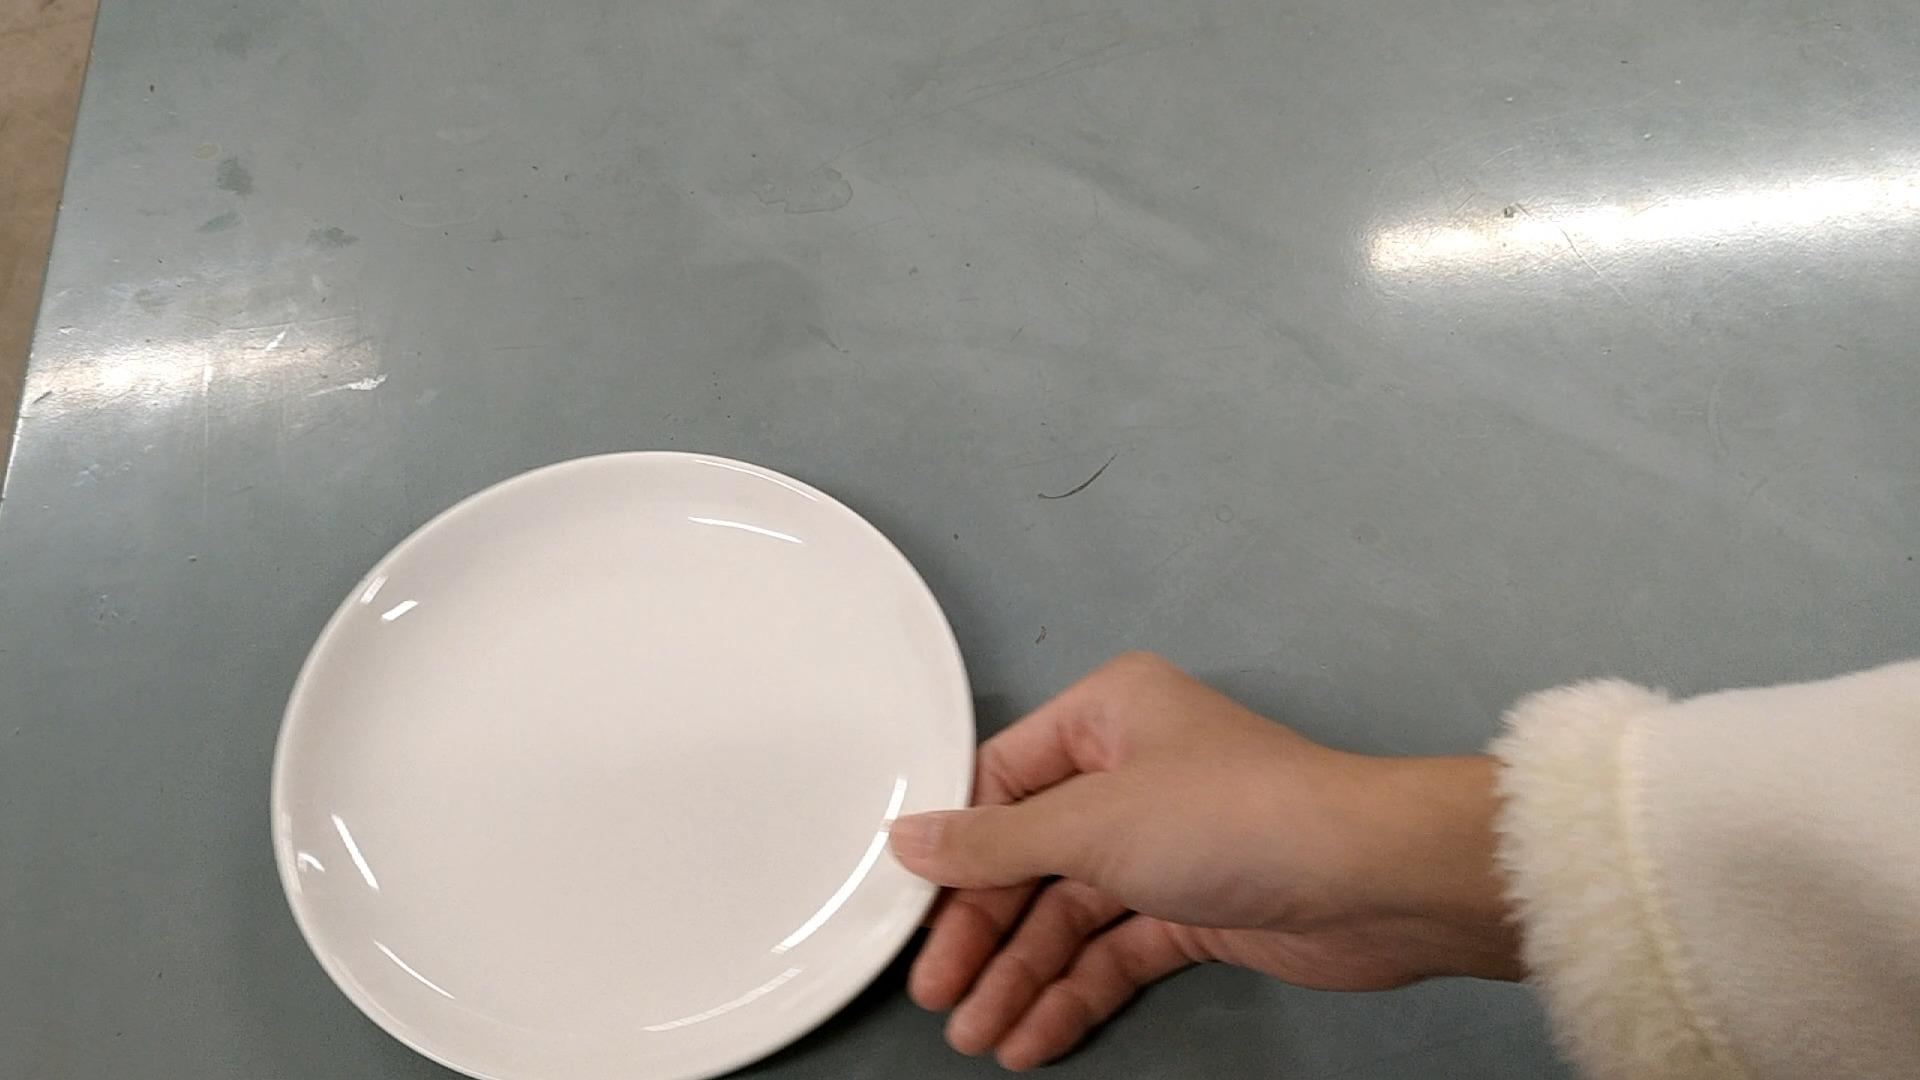plate: (270, 448, 980, 1080)
